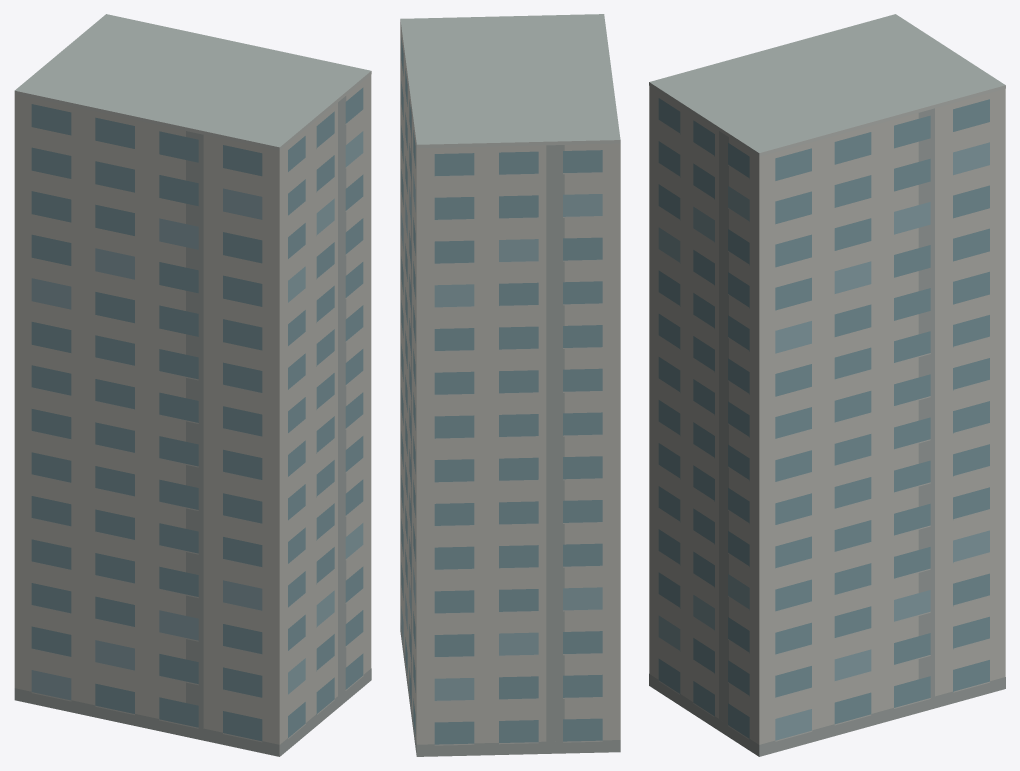
File: residential-4a8e6f23-ab57-40b5-98fd-2315294cf77b.glb
3 views of the same model, side by side, from view 1: azimuth 30°, elevation 25°; view 2: azimuth 150°, elevation 25°; view 3: azimuth 270°, elevation 25° (orthographic).
Parts seen in each view (by area): view 1: residential-4a8e6f23-ab57-40b5-98fd-2315294cf77b.tmp; view 2: residential-4a8e6f23-ab57-40b5-98fd-2315294cf77b.tmp; view 3: residential-4a8e6f23-ab57-40b5-98fd-2315294cf77b.tmp.
Part boxes in pixels (left/top/right/bottom): residential-4a8e6f23-ab57-40b5-98fd-2315294cf77b.tmp: left=14, top=14, right=371, bottom=756; residential-4a8e6f23-ab57-40b5-98fd-2315294cf77b.tmp: left=400, top=14, right=620, bottom=756; residential-4a8e6f23-ab57-40b5-98fd-2315294cf77b.tmp: left=649, top=14, right=1005, bottom=756.
Bounding box in the file's own units: 20.29 × 41 × 21.96.
